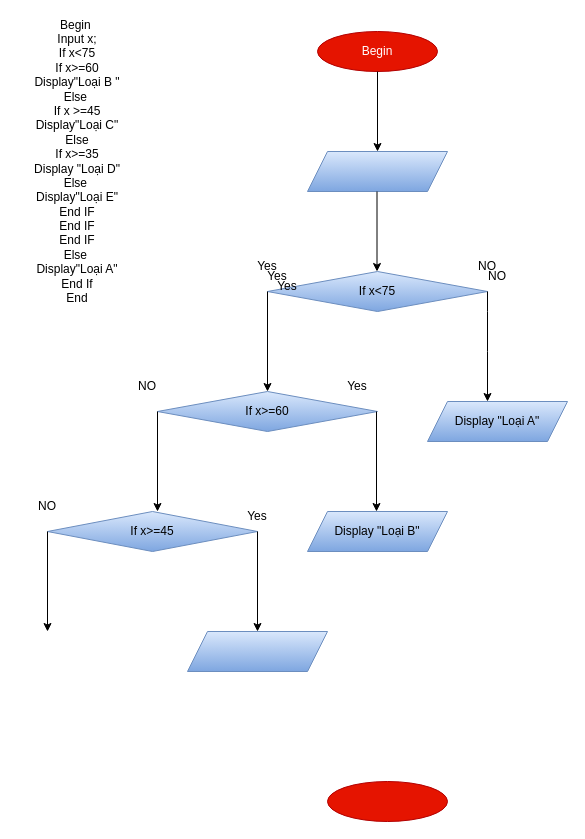
This 585x839 diagram has some shape labels left out. Each missing label, with the box of its shape:
Display "Loại C": (186, 630, 328, 672)
End: (326, 780, 448, 822)
Input x: (306, 150, 448, 192)
